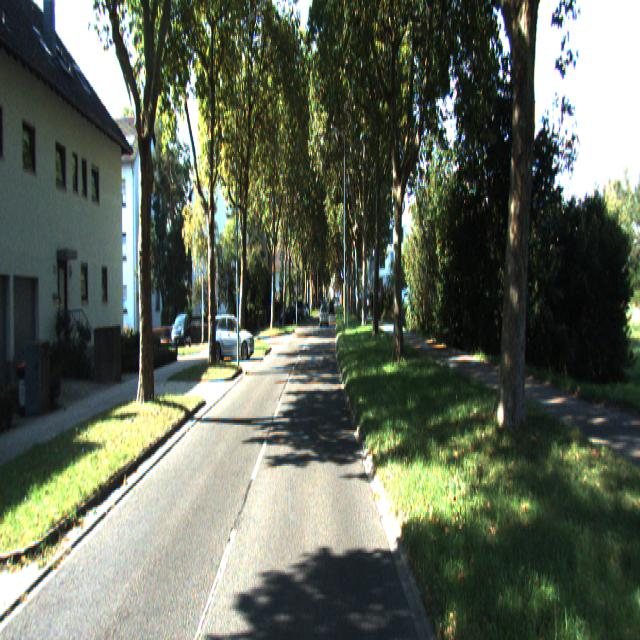Car: (207, 312, 255, 360)
